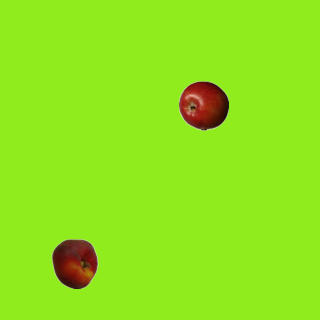Apple Braeburn: (178, 80, 228, 130)
Nectarine Flat: (49, 238, 99, 288)
